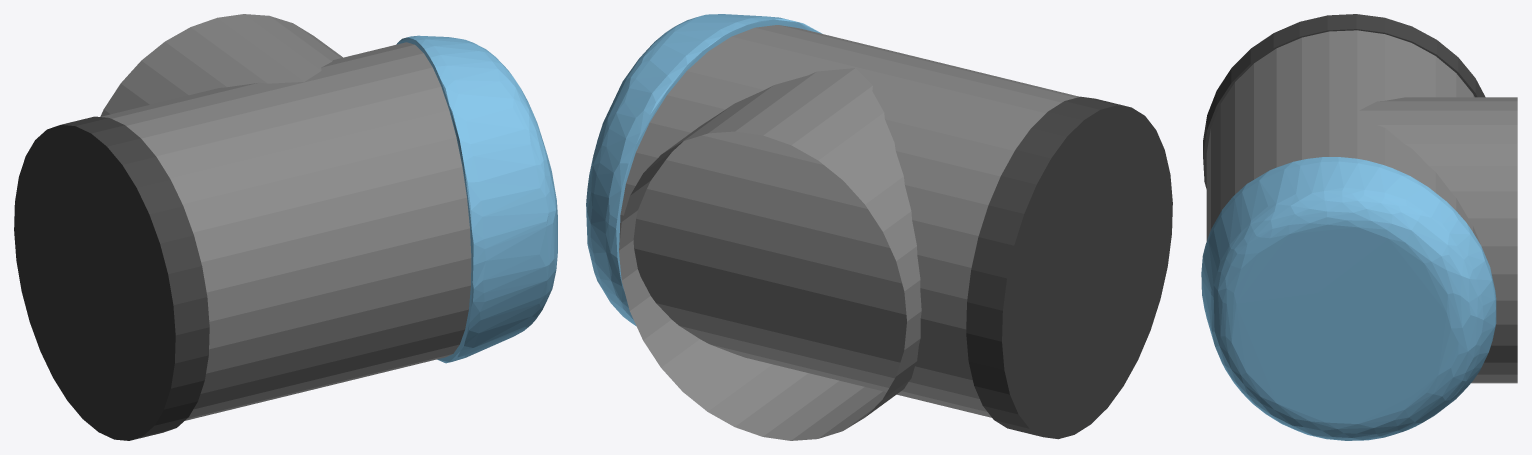
Rendered from ur3_robot_link6_visible__52__.dae.
3 views of the same model, side by side, from view 1: azimuth 30°, elevation 25°; view 2: azimuth 150°, elevation 25°; view 3: azimuth 270°, elevation 25° (orthographic). The views are drawn at different scales.
Visible parts, largest first — view 1: Node_0000014D8EC04C60 (×4); view 2: Node_0000014D8EC04C60 (×4); view 3: Node_0000014D8EC04C60 (×4).
Part boxes in pixels (<box>): Node_0000014D8EC04C60 (×4): <box>14,14,557,440</box>; Node_0000014D8EC04C60 (×4): <box>586,14,1172,440</box>; Node_0000014D8EC04C60 (×4): <box>1201,14,1517,440</box>.
Bounding box in the file's own units: 0.0958 × 0.0654 × 0.0697.
